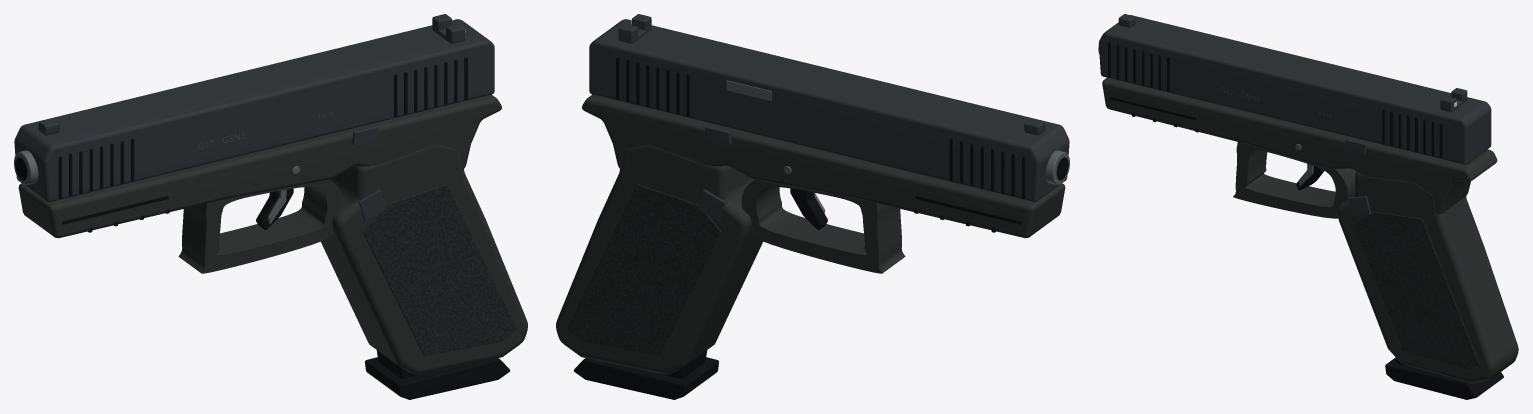
3 views of the same model, side by side, from view 1: azimuth 30°, elevation 25°; view 2: azimuth 150°, elevation 25°; view 3: azimuth 330°, elevation 25° (orthographic). The views are drawn at different scales.
Visible parts, largest first — view 1: Squared Gen5 slide, Polymer frame contour, Shaped polymer grip, Stippled side panel, Squared trigger guard, Magazine floor plate, Curved trigger face, Release button exterior, Barrel exterior front; view 2: Squared Gen5 slide, Polymer frame contour, Shaped polymer grip, Stippled side panel.001, Squared trigger guard, Magazine floor plate, Curved trigger face, Release button exterior.001, Recess interior surface, Barrel exterior front; view 3: Squared Gen5 slide, Shaped polymer grip, Polymer frame contour, Stippled side panel, Squared trigger guard, Magazine floor plate, Release button exterior.
Boxes of the visible parts, box(x1,y1,x2,y2) form: Squared Gen5 slide: box(14, 19, 494, 202); Polymer frame contour: box(18, 94, 501, 238); Shaped polymer grip: box(321, 144, 527, 374); Stippled side panel: box(362, 184, 516, 355); Squared trigger guard: box(178, 179, 342, 273); Magazine floor plate: box(365, 357, 510, 399); Curved trigger face: box(256, 188, 293, 229); Release button exterior: box(358, 189, 386, 221); Barrel exterior front: box(14, 150, 38, 185); Squared Gen5 slide: box(589, 19, 1069, 202); Polymer frame contour: box(582, 94, 1065, 238); Shaped polymer grip: box(556, 144, 762, 374); Stippled side panel.001: box(567, 184, 721, 355); Squared trigger guard: box(741, 179, 905, 273); Magazine floor plate: box(573, 357, 718, 399); Curved trigger face: box(790, 188, 827, 229); Release button exterior.001: box(697, 189, 725, 221); Recess interior surface: box(726, 80, 771, 101); Barrel exterior front: box(1045, 150, 1069, 185); Squared Gen5 slide: box(1098, 15, 1491, 164); Shaped polymer grip: box(1337, 172, 1518, 383); Polymer frame contour: box(1102, 77, 1497, 214); Stippled side panel: box(1353, 211, 1479, 369); Squared trigger guard: box(1233, 142, 1356, 218); Magazine floor plate: box(1385, 357, 1503, 399); Release button exterior: box(1348, 196, 1371, 216).
Size of the model in its own units: 3.82 by 2.62 by 0.539.
7 materials, 1 textured.
